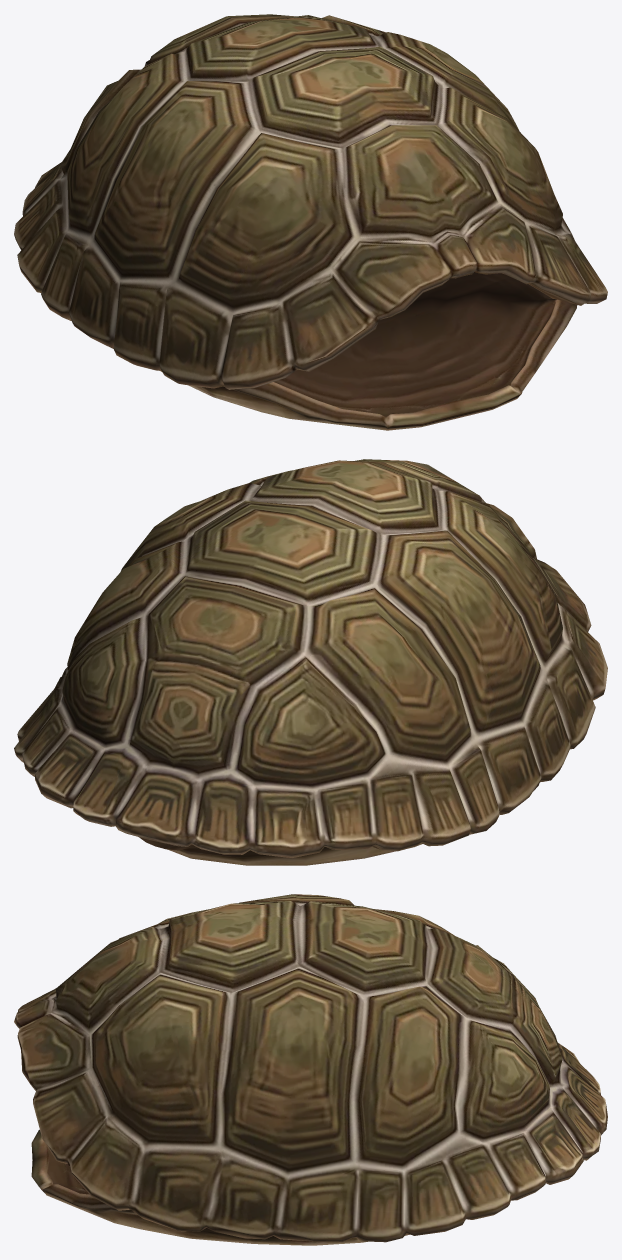
Rendered from turtle_shell.glb.
3 renders of one model, top to bottom at view 1: azimuth 30°, elevation 25°; view 2: azimuth 150°, elevation 25°; view 3: azimuth 270°, elevation 25°, orthographic. The views are drawn at different scales.
Bounding box in the file's own units: 0.3184 × 0.1861 × 0.4.
1 material, 1 textured.
